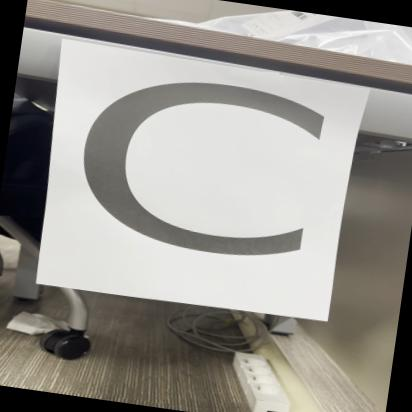seat: (34, 37, 354, 322)
